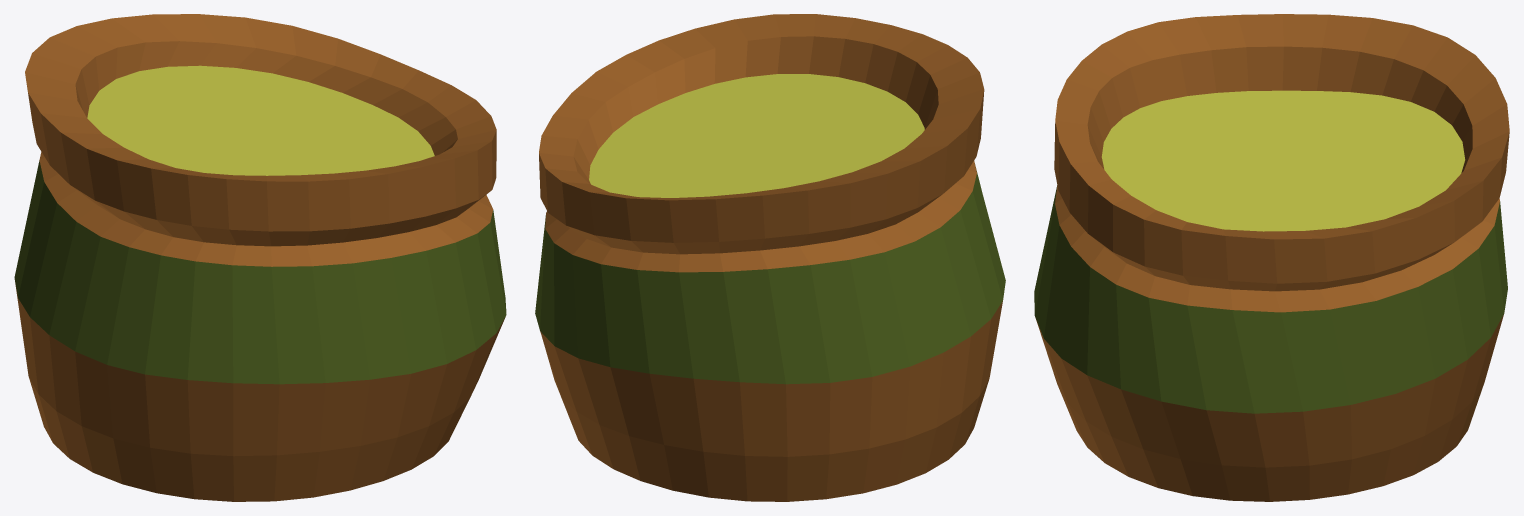
File: VertalizerSack.fbx
3 views of the same model, side by side, from view 1: azimuth 30°, elevation 25°; view 2: azimuth 150°, elevation 25°; view 3: azimuth 270°, elevation 25° (orthographic). The views are drawn at different scales.
Parts seen in each view (by area): view 1: Cylinder; view 2: Cylinder; view 3: Cylinder.
Boxes of the visible parts, left/top/right/bottom form: Cylinder: left=14, top=14, right=506, bottom=501; Cylinder: left=535, top=14, right=1005, bottom=501; Cylinder: left=1034, top=14, right=1509, bottom=501.
Bounding box in the file's own units: 77.71 × 59.37 × 79.41.
